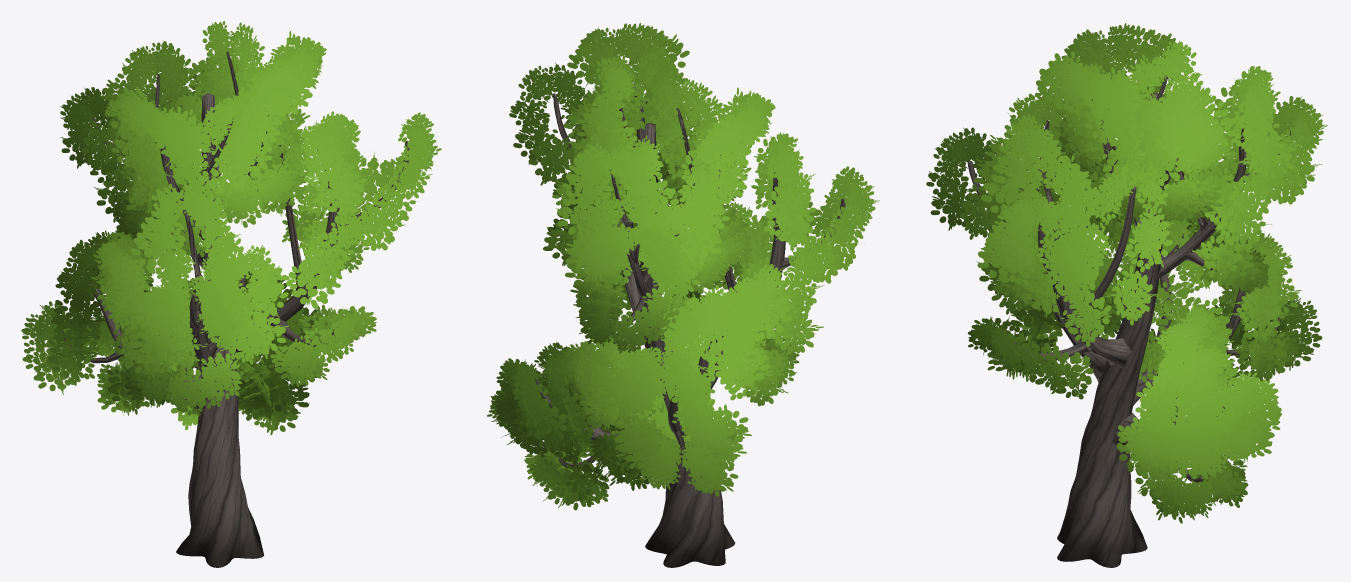
Rendered from tree9.glb.
3 views of the same model, side by side, from view 1: azimuth 30°, elevation 25°; view 2: azimuth 150°, elevation 25°; view 3: azimuth 270°, elevation 25° (orthographic). The views are drawn at different scales.
Visible parts, largest first — view 1: TwistedTree_3; view 2: TwistedTree_3; view 3: TwistedTree_3.
Boxes of the visible parts, bbox=[...] form: TwistedTree_3: bbox=[21, 21, 441, 567]; TwistedTree_3: bbox=[487, 23, 879, 567]; TwistedTree_3: bbox=[926, 23, 1327, 567].
Bounding box in the file's own units: 10.34 × 14.63 × 10.47.
2 materials, 2 textured.
